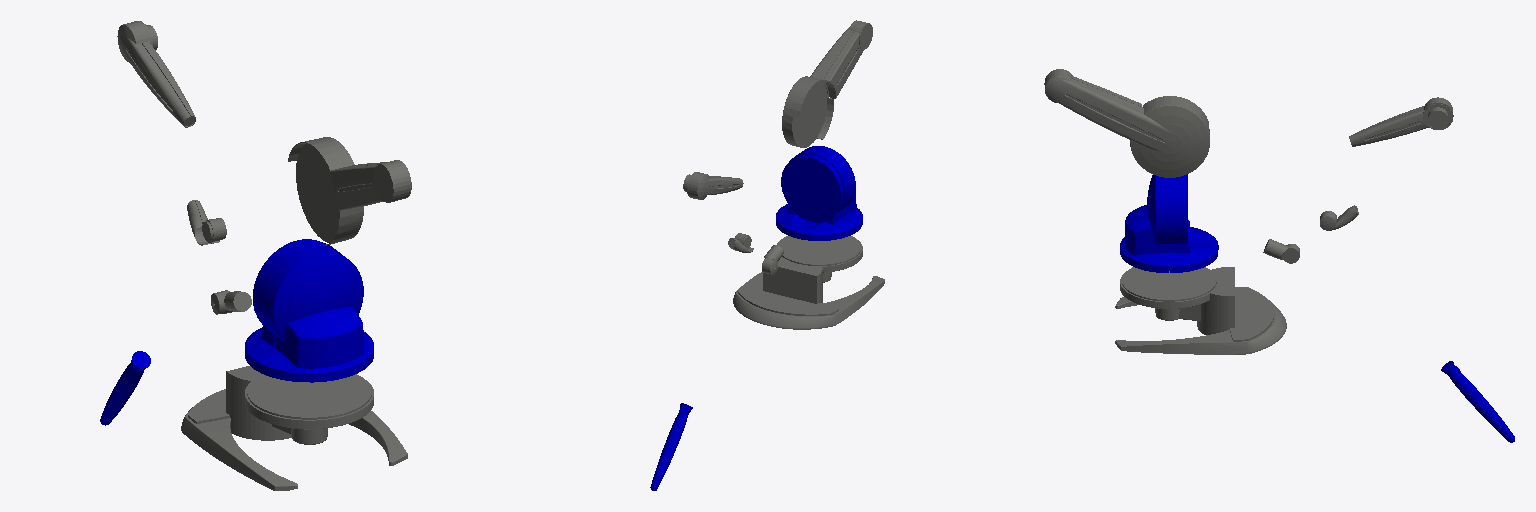
robot.urdf — geomagic_touch:
<?xml version="1.0" encoding="utf-8"?>
<robot name="geomagic_touch" xmlns:xacro="http://www.ros.org/wiki/xacro">
	
	<!-- Materials -->
	<material name="metal_seamed">
		<color rgba="0.4627450980392157 0.4666666666666667 0.4509803921568628 1.0" />
	</material>
	<material name="blue">
		<color rgba="0.0 0.0 0.8 1.0" />
	</material>
	<material name="white">
		<color rgba="1.0 1.0 1.0 1.0" />
	</material>
	
	<!-- Links -->
  <link name="base" >
    <visual>
			<origin xyz="0 0 0" />
      <geometry>
				<mesh filename="package://touchx_description/meshes/base.stl" />
      </geometry>
      <material name="metal_seamed"/>
    </visual>
  </link>
  <link name="torso" >
    <visual>
			<origin xyz="0 0 0.0" rpy="0 0 0"/>
      <geometry>
				<mesh filename="package://touchx_description/meshes/torso.stl" />
      </geometry>
      <material name="blue"/>
    </visual>
  </link>
  <link name="upper_arm" >
		<visual>
			<origin xyz="0 0 0" rpy="0 0 0"/>
      <geometry>
				<mesh filename="package://touchx_description/meshes/upper_arm.stl" />
      </geometry>
      <material name="metal_seamed" />
    </visual>
  </link>
  <link name="lower_arm" >
		<visual>
			<origin xyz="0 0 0" rpy="0 0 0"/>
      <geometry>
				<mesh filename="package://touchx_description/meshes/lower_arm.stl" />
      </geometry>
      <material name="metal_seamed" />
    </visual>
  </link>
  <link name="upper_wrist" >
		<visual>
			<origin xyz="0 0 0" rpy="0 0 0"/>
      <geometry>
				<mesh filename="package://touchx_description/meshes/upper_wrist.stl" />
      </geometry>
      <material name="metal_seamed" />
    </visual>
  </link>
  <link name="lower_wrist" >
		<visual>
			<origin xyz="0 0 0" rpy="0 0 0"/>
      <geometry>
				<mesh filename="package://touchx_description/meshes/lower_wrist.stl" />
      </geometry>
      <material name="metal_seamed" />
    </visual>
  </link>
  <link name="stylus" >
    <visual>
			<origin xyz="0 0 0" rpy="0 0 0"/>
      <geometry>
				<mesh filename="package://touchx_description/meshes/stylus.stl" />
      </geometry>
      <material name="blue" />
    </visual>
  </link>
  
	<!-- joints -->
  <joint name="j1" type="revolute" >
    <parent link="base" />
    <child link="torso" />
    <origin xyz="0 0 0.09" rpy="0 0 0" />
    <axis xyz="0 0 1" />
    <limit lower="-0.98" upper="0.98" velocity="100" effort="5" />
  </joint>
  <joint name="j2" type="revolute" >
    <parent link="torso" />
    <child link="upper_arm" />
    <origin xyz="-0.0075 0 0.035" rpy="0 0 0" />
    <axis xyz="1 0 0" />
    <limit lower="0" upper="1.75" velocity="100" effort="5" />
  </joint>
  <joint name="j3" type="revolute" >
    <parent link="upper_arm" />
    <child link="lower_arm" />
    <origin xyz="0.0075 .134 0" rpy="-1.5 0 0" />
    <axis xyz="1 0 0" />
		<!-- upper="1.25" -->
    <limit lower="-0.81" upper="1.25" velocity="100" effort="5" /> 
  </joint>
  <joint name="j4" type="revolute" >
    <parent link="lower_arm" />
    <child link="upper_wrist" />
    <origin xyz="0 0.08 0" />
    <axis xyz="0 1 0" />
    <limit lower="3.92" upper="8.83" velocity="100" effort="5" />
  </joint>
  <joint name="j5" type="revolute" >
    <parent link="upper_wrist" />
    <child link="lower_wrist" />
    <origin xyz="0 0.0525 0" rpy="0.5 0 0" />
    <axis xyz="1 0 0" />
    <limit lower="-0.5" upper="1.75" velocity="100" effort="5" />
  </joint>
  <joint name="j6" type="revolute" >
    <parent link="lower_wrist" />
    <child link="stylus" />
    <origin xyz="0 -0.023 0" rpy="3.14159 3.14159 0" />
    <axis xyz="0 1 0" />
    <limit lower="-2.58" upper="2.58" velocity="100" effort="5" />
  </joint>
</robot>

--- Facts derived from the render (not from the file) ---
The picture shows the robot from 3 angles, left to right: view 1: azimuth 30°, elevation 25°; view 2: azimuth 150°, elevation 25°; view 3: azimuth 270°, elevation 25°; orthographic projection.
Model geomagic_touch with 7 links and 6 joints (6 revolute), rooted at base, posed joints at zero except 1 at the middle of their limits (j4 = 6.38).
Links seen in each view (by area): view 1: torso, base, upper_arm, lower_arm, stylus, upper_wrist, lower_wrist; view 2: base, torso, upper_arm, lower_arm, stylus; view 3: base, upper_arm, torso, lower_arm, stylus, lower_wrist, upper_wrist.
Boxes of the visible links, <box> form: torso: <box>245,239,373,382</box>; base: <box>181,366,407,490</box>; upper_arm: <box>288,137,411,245</box>; lower_arm: <box>117,21,195,127</box>; stylus: <box>100,351,150,425</box>; upper_wrist: <box>187,200,226,245</box>; lower_wrist: <box>211,290,251,314</box>; base: <box>733,236,884,329</box>; torso: <box>776,146,862,240</box>; upper_arm: <box>782,20,872,147</box>; lower_arm: <box>683,172,743,199</box>; stylus: <box>650,403,692,490</box>; base: <box>1115,267,1286,354</box>; upper_arm: <box>1044,69,1209,177</box>; torso: <box>1120,174,1218,272</box>; lower_arm: <box>1349,97,1453,146</box>; stylus: <box>1441,361,1514,442</box>; lower_wrist: <box>1263,239,1299,263</box>; upper_wrist: <box>1320,205,1358,230</box>.
Bounding box of the posed robot: 0.148 × 0.5122 × 0.4397 m (x, y, z).
7 mesh visuals loaded from 7 distinct referenced files (7 binary STL).